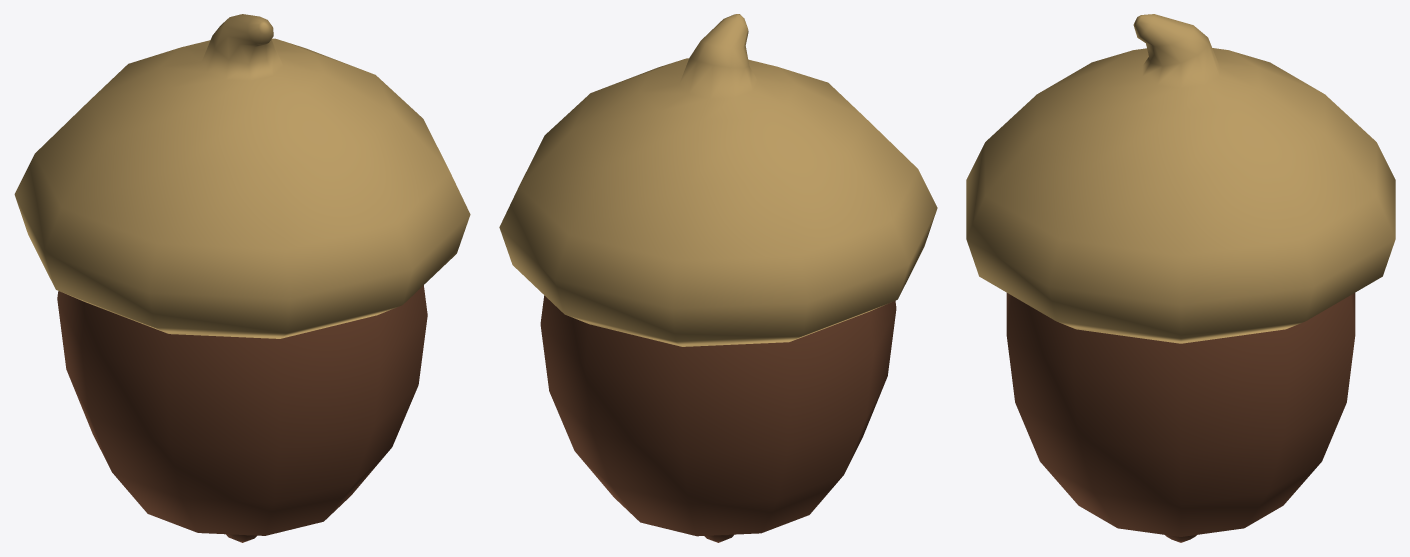
File: acorn.fbx
3 views of the same model, side by side, from view 1: azimuth 30°, elevation 25°; view 2: azimuth 150°, elevation 25°; view 3: azimuth 270°, elevation 25° (orthographic). The views are drawn at different scales.
Visible parts, largest first — view 1: polySurface2, polySurface1; view 2: polySurface2, polySurface1; view 3: polySurface2, polySurface1.
Part boxes in pixels (<box>): polySurface2: <box>14,14,470,338</box>; polySurface1: <box>57,285,427,542</box>; polySurface2: <box>499,14,937,346</box>; polySurface1: <box>540,295,896,542</box>; polySurface2: <box>966,14,1395,343</box>; polySurface1: <box>1006,293,1355,542</box>.
Size of the model in its own units: 9.99 by 12.88 by 9.5.
